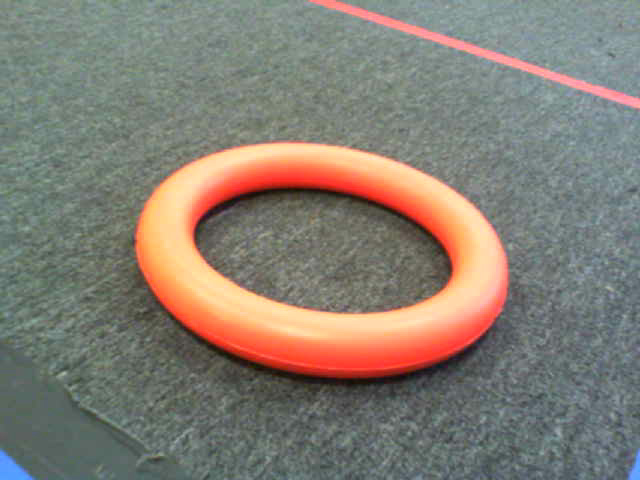Note: (136, 140, 515, 385)
